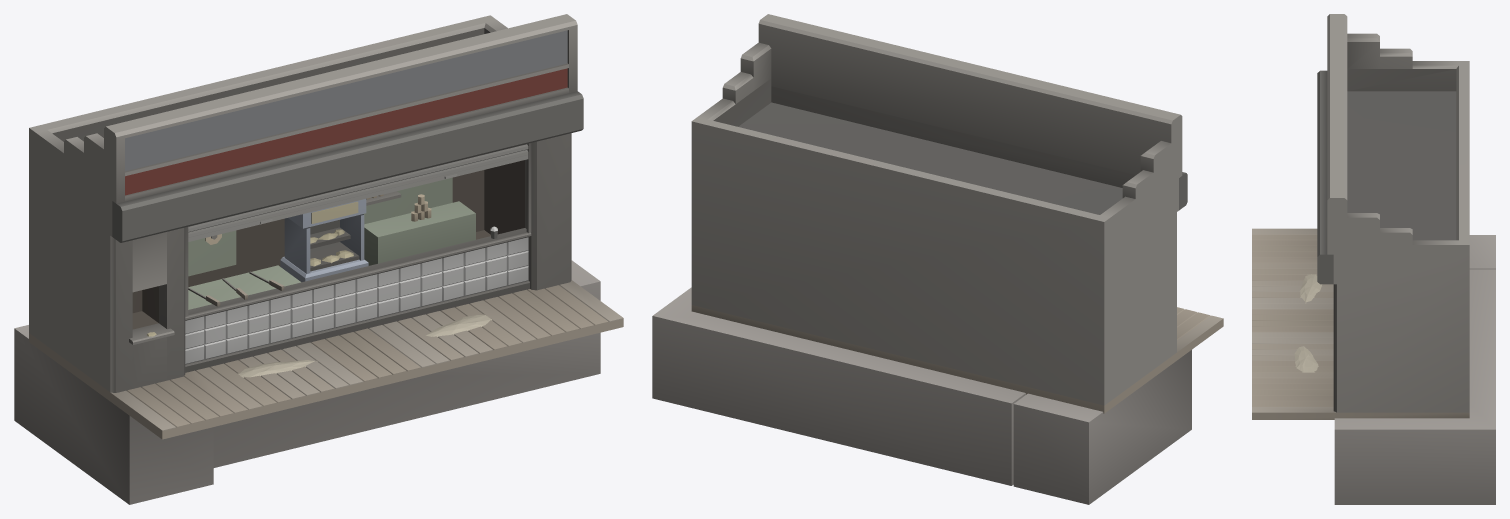
The model's file is arcade.glb.
3 renders of one model, left to right at view 1: azimuth 30°, elevation 25°; view 2: azimuth 150°, elevation 25°; view 3: azimuth 270°, elevation 25°, orthographic. The views are drawn at different scales.
Visible parts, largest first — view 1: arcade; view 2: arcade; view 3: arcade.
Part boxes in pixels (x1,y1,x2,y2): arcade: (14,14,623,504); arcade: (652,14,1223,504); arcade: (1252,14,1495,504).
Size of the model in its own units: 8.48 by 6 by 4.48.
